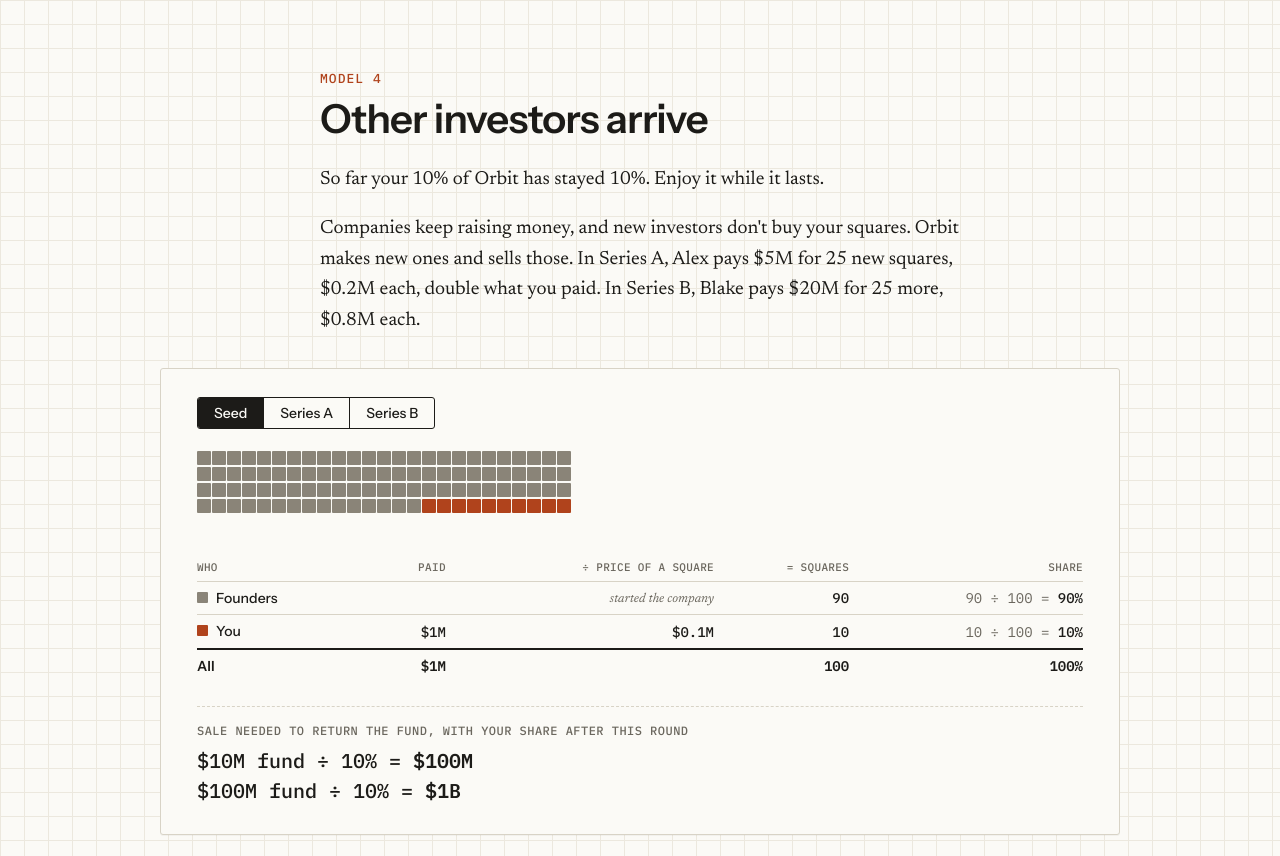
Test: Model 4: other investors arrive › adds 25 squares in Series A
The image size is (1280, 856).
Click the button "Series A" at (306, 413), box [263,398,349,428]
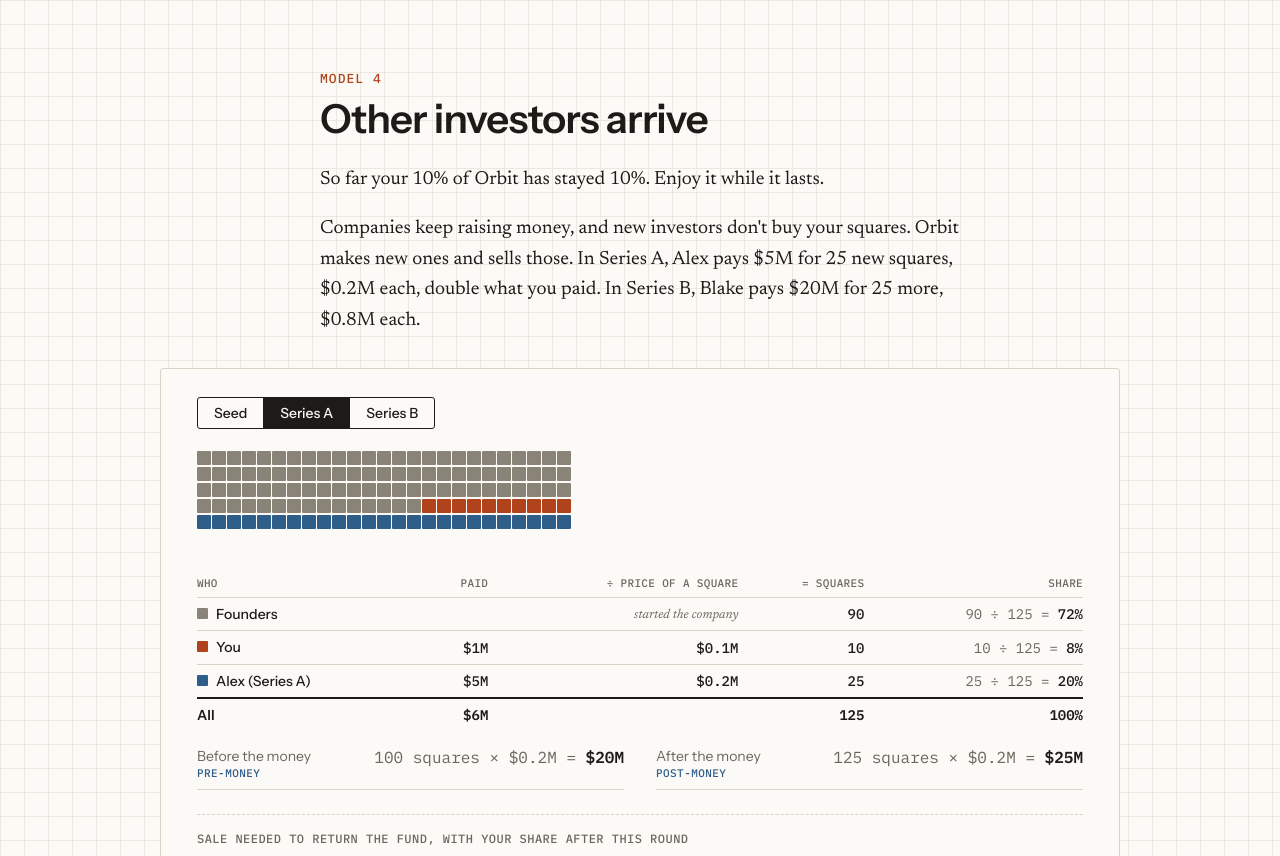
Expected: the button "Series A" is pressed, [263,398,349,428]
